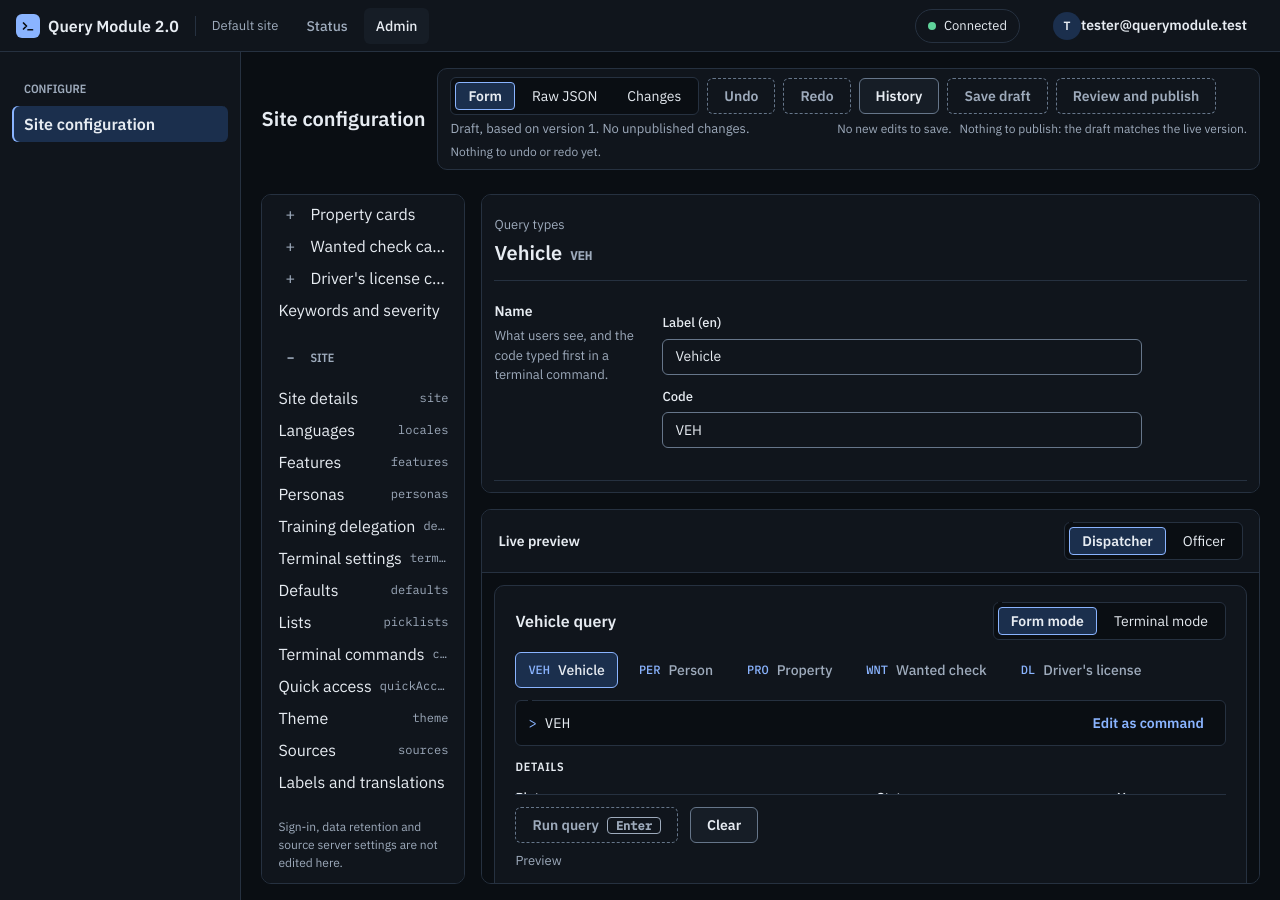
Test: B1: a setting's name is its words; the config path is a hidden description › the name has no dotted path, the description carries it, and legends keep names unique
This screenshot has width=1280, height=900.
(page scrolled)
Expected: the tab "Form" is shown, top-left (456, 82), bottom-right (515, 110)
Click the list item "Terminal settings terminal" at (363, 558), box top-left (270, 542), bottom-right (456, 574)
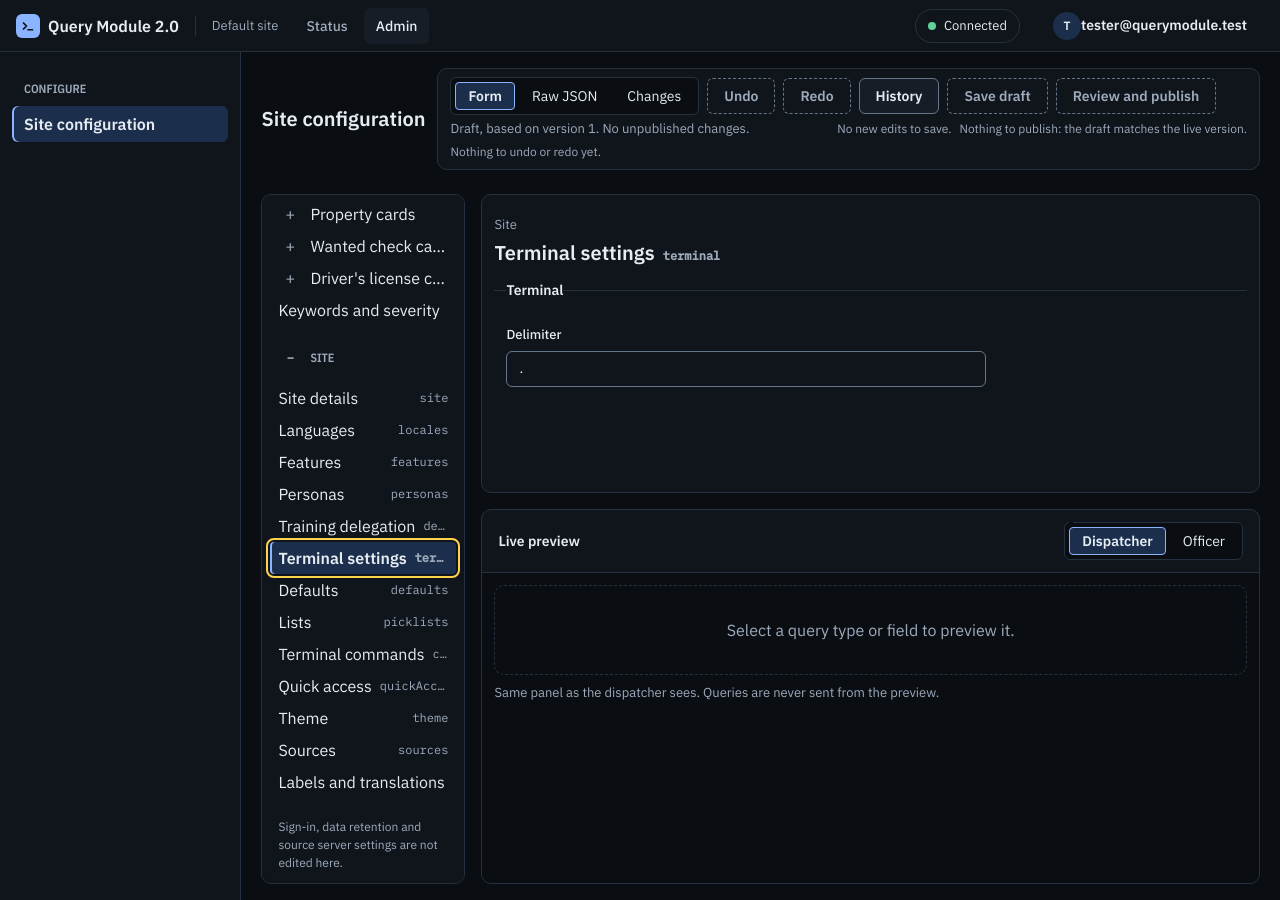
Result: the text "Terminal" is shown at top-left (506, 280), bottom-right (563, 301)
